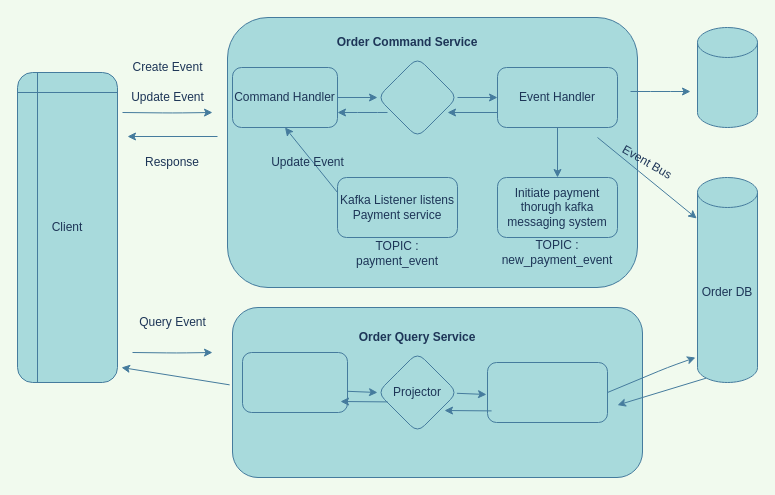
Image size: 775x495. Some labels were removed from this diagram. Here are the shapes that lost their labels. From the top down, the centre of each, then its label:
At (417,97): "Aggregator".
At (727,77): "Event Store".
At (295,382): "Query Handler".
At (547,392): "Repository".
